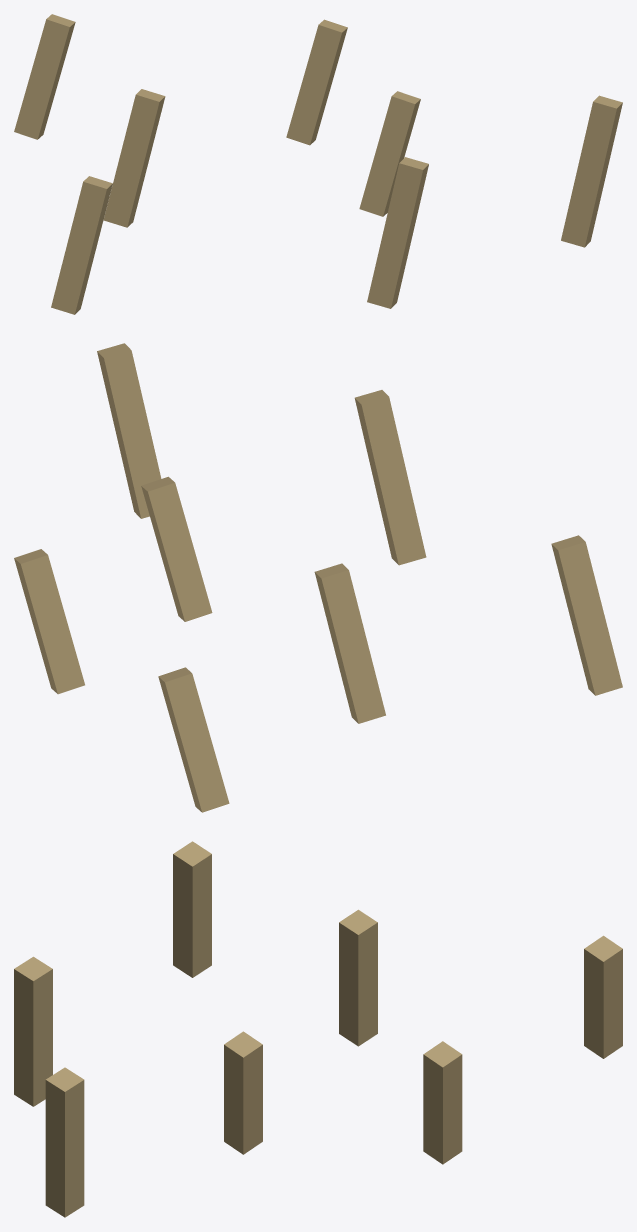
File: crop_rye_dormant.glb
3 renders of one model, top to bottom at view 1: azimuth 30°, elevation 25°; view 2: azimuth 150°, elevation 25°; view 3: azimuth 270°, elevation 25°, orthographic. The views are drawn at different scales.
Parts seen in each view (by area): view 1: crop_rye_dormant; view 2: crop_rye_dormant; view 3: crop_rye_dormant.
Part boxes in pixels (<box>): crop_rye_dormant: <box>14,14,622,314</box>; crop_rye_dormant: <box>14,343,622,812</box>; crop_rye_dormant: <box>14,841,622,1217</box>.
Size of the model in its own units: 0.3984 by 0.1039 by 0.3756.
